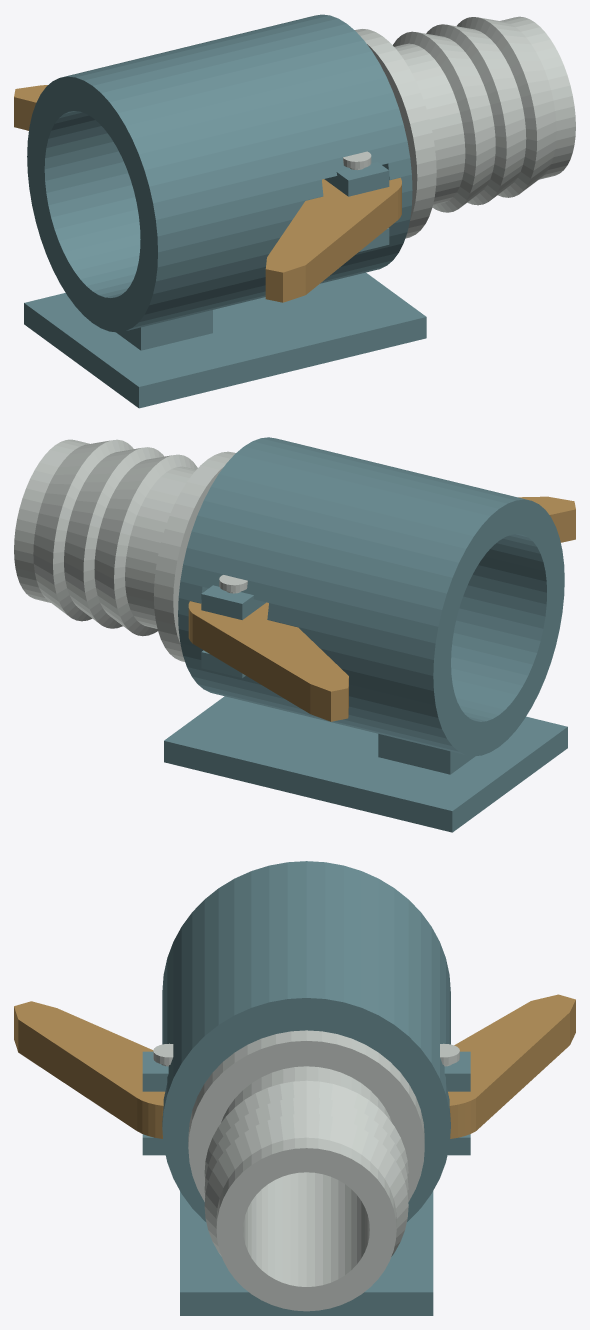
The picture shows the model from 3 angles, top to bottom: view 1: azimuth 30°, elevation 25°; view 2: azimuth 150°, elevation 25°; view 3: azimuth 270°, elevation 25°; orthographic projection. The views are drawn at different scales.
Visible parts, largest first — view 1: WholeWindowedFemaleSleeve, WholeGroovedMaleAdaptorAndTail, WholeLowDisplayBase, WholeEccentricCamAndLongLever0, WholeRearSleeveSaddle, WholeExternalPivotEar0_1, WholeEccentricCamAndLongLever1; view 2: WholeWindowedFemaleSleeve, WholeGroovedMaleAdaptorAndTail, WholeLowDisplayBase, WholeEccentricCamAndLongLever1, WholeRearSleeveSaddle, WholeExternalPivotEar1_1, WholeEccentricCamAndLongLever0, WholeExternalPivotEar1_0; view 3: WholeWindowedFemaleSleeve, WholeGroovedMaleAdaptorAndTail, WholeLowDisplayBase, WholeEccentricCamAndLongLever0, WholeEccentricCamAndLongLever1, WholeExternalPivotEar0_1, WholeExternalPivotEar1_1.
Boxes of the visible parts, <box> form: WholeWindowedFemaleSleeve: <box>27,14,412,332</box>; WholeGroovedMaleAdaptorAndTail: <box>355,16,575,238</box>; WholeLowDisplayBase: <box>24,272,426,408</box>; WholeEccentricCamAndLongLever0: <box>265,177,401,302</box>; WholeRearSleeveSaddle: <box>116,310,212,350</box>; WholeExternalPivotEar0_1: <box>324,162,389,196</box>; WholeEccentricCamAndLongLever1: <box>14,85,47,130</box>; WholeWindowedFemaleSleeve: <box>178,437,564,756</box>; WholeGroovedMaleAdaptorAndTail: <box>14,439,235,661</box>; WholeLowDisplayBase: <box>164,696,567,832</box>; WholeEccentricCamAndLongLever1: <box>188,601,348,721</box>; WholeRearSleeveSaddle: <box>378,734,474,774</box>; WholeExternalPivotEar1_1: <box>201,585,266,619</box>; WholeEccentricCamAndLongLever0: <box>518,496,575,542</box>; WholeExternalPivotEar1_0: <box>201,650,245,678</box>; WholeWindowedFemaleSleeve: <box>162,861,450,1221</box>; WholeGroovedMaleAdaptorAndTail: <box>188,1030,424,1311</box>; WholeLowDisplayBase: <box>180,1191,433,1315</box>; WholeEccentricCamAndLongLever0: <box>14,1001,165,1138</box>; WholeEccentricCamAndLongLever1: <box>448,994,575,1138</box>; WholeExternalPivotEar0_1: <box>142,1051,168,1091</box>; WholeExternalPivotEar1_1: <box>444,1051,470,1091</box>.
Bounding box in the file's own units: 0.82 × 0.48 × 0.7987.
